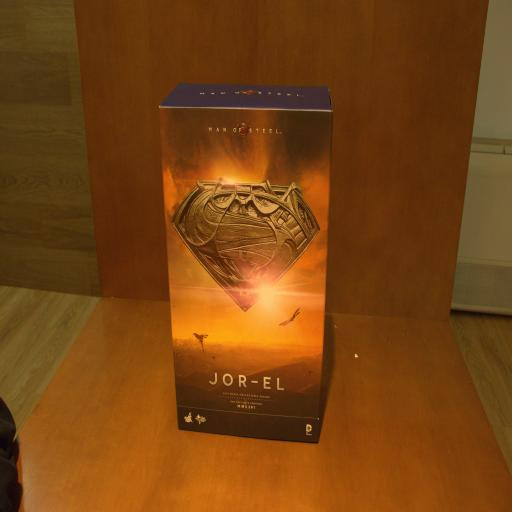superman: (158, 80, 333, 446)
